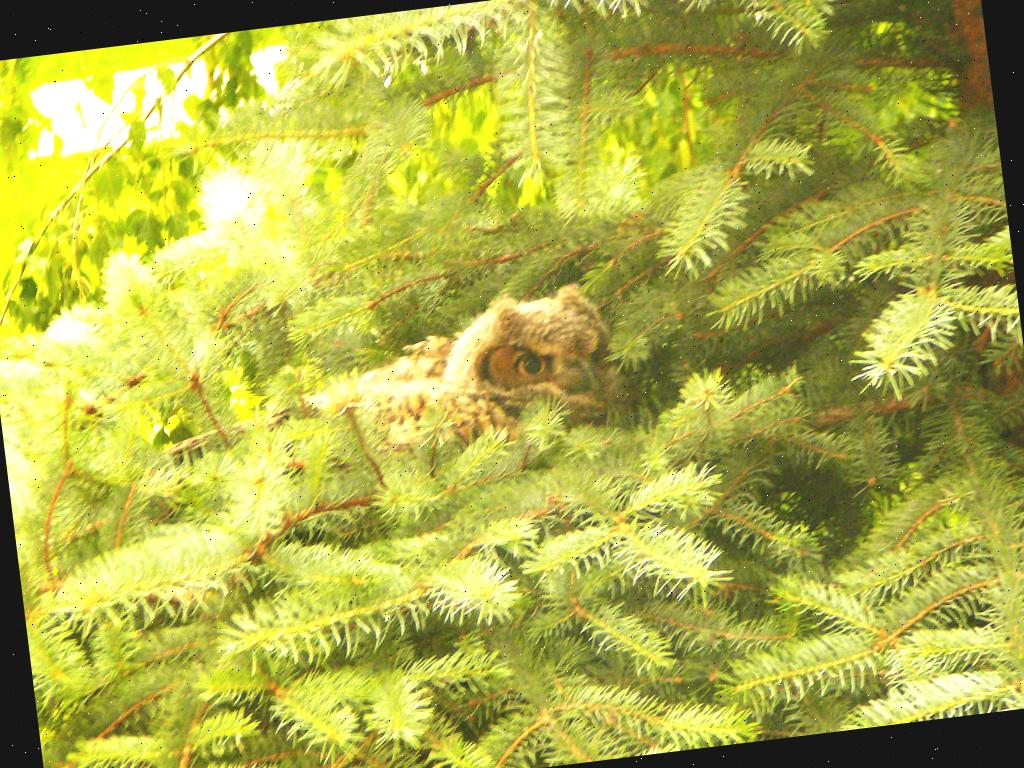Owl: (306, 278, 627, 484)
